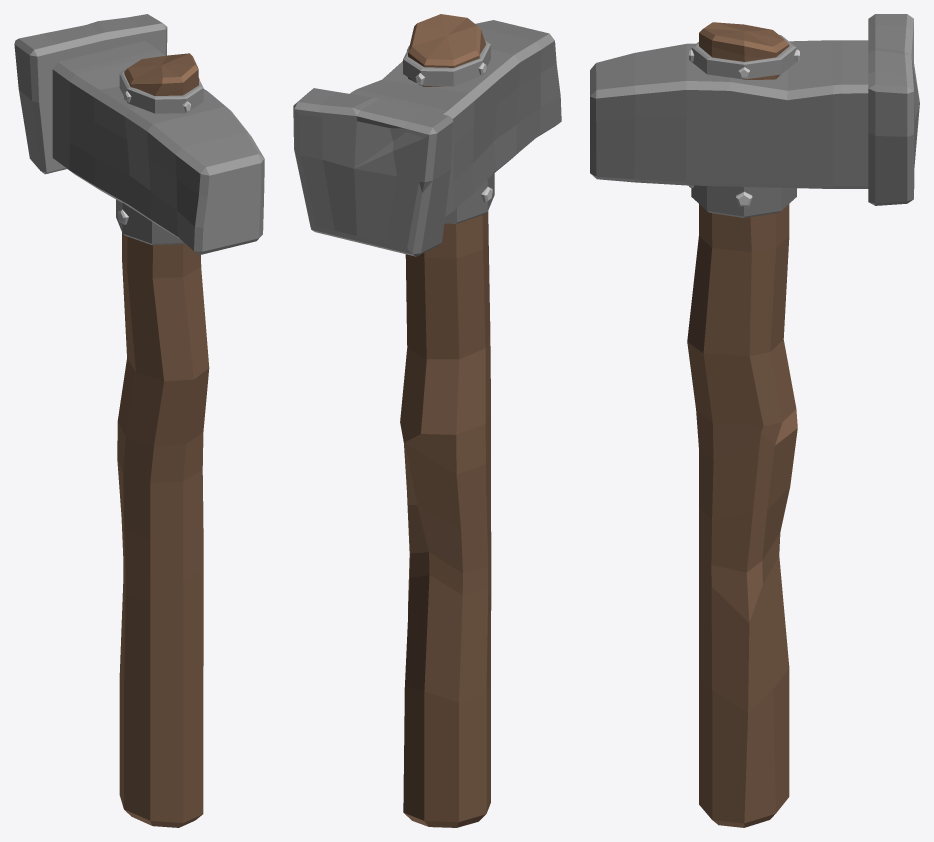
Rendered from Hammer3.fbx.
3 views of the same model, side by side, from view 1: azimuth 30°, elevation 25°; view 2: azimuth 150°, elevation 25°; view 3: azimuth 270°, elevation 25° (orthographic). The views are drawn at different scales.
Visible parts, largest first — view 1: Hammer3; view 2: Hammer3; view 3: Hammer3.
Part boxes in pixels (bbox=[...]): Hammer3: bbox=[14, 14, 264, 827]; Hammer3: bbox=[293, 14, 561, 827]; Hammer3: bbox=[590, 14, 919, 827].
Bounding box in the file's own units: 10.81 × 56.86 × 21.55.
